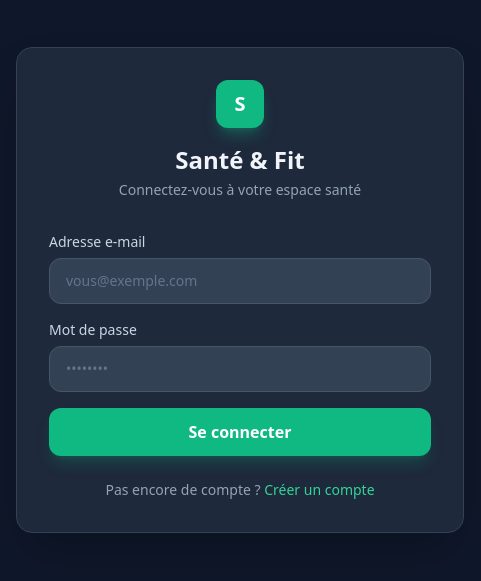
Test: LoginPage › Validation du formulaire › affiche une erreur si seulement l'email est vide
Type "password123" into the password field labelled "Mot de passe" at (240, 369), box x1=49 y1=346 x2=431 y2=392
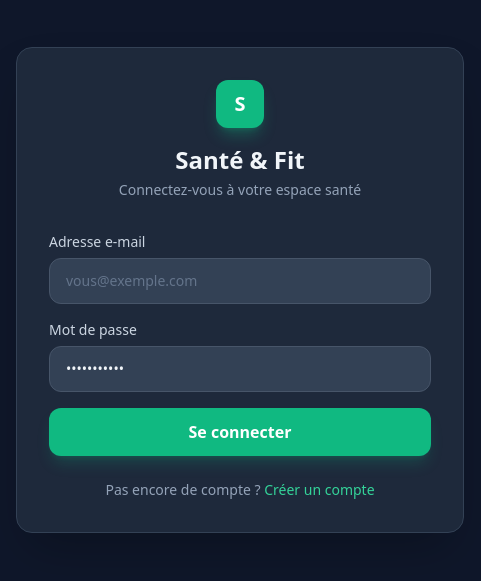
Click the button "Se connecter" at (240, 432), box x1=49 y1=408 x2=431 y2=456
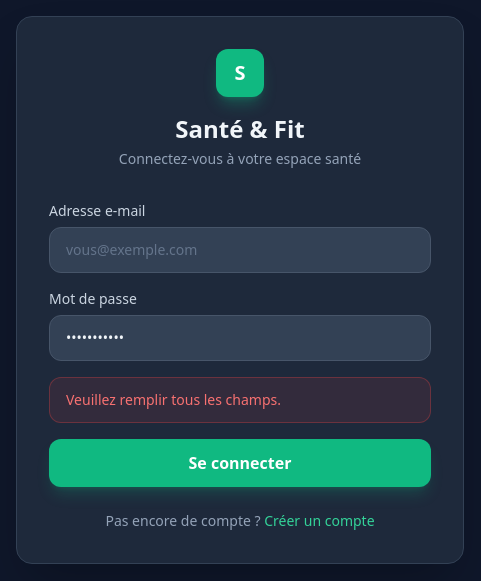
Expected: the text "Veuillez remplir tous les champs." is shown, x1=49 y1=377 x2=431 y2=423
